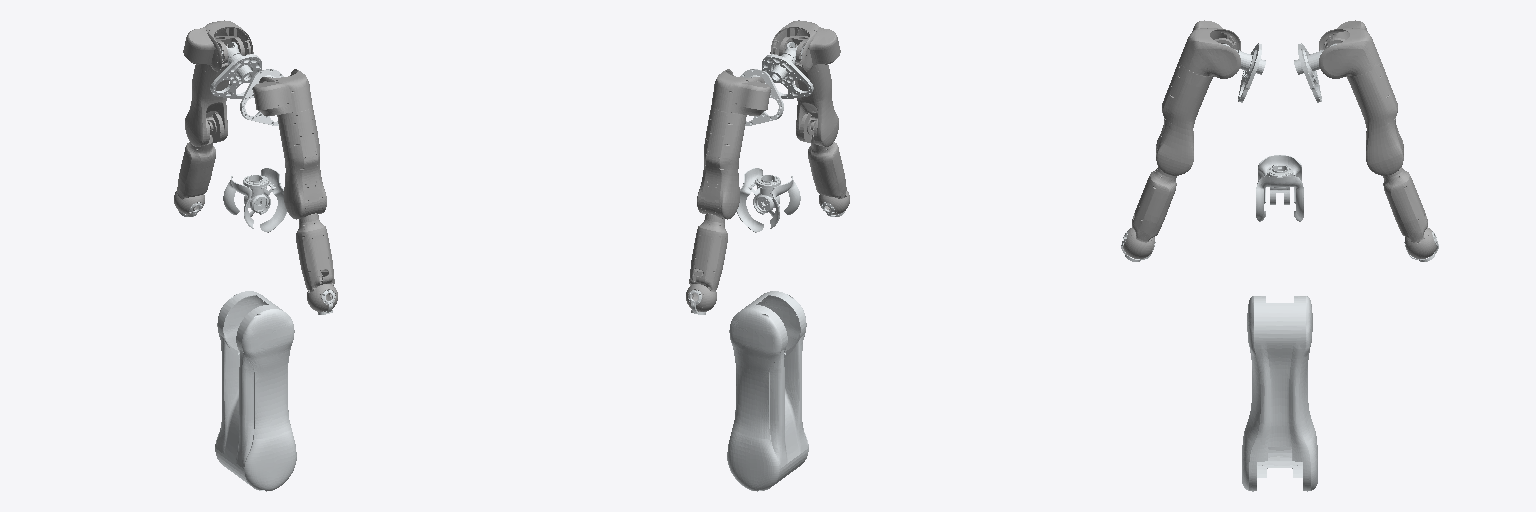
--- What the picture shows (computed from the rendered views, not written in the file) ---
Views: 3 orthographic renders of the robot side by side, from view 1: azimuth 30°, elevation 25°; view 2: azimuth 150°, elevation 25°; view 3: azimuth 270°, elevation 25°.
Model astribot_whole_body with 26 links and 25 joints (18 revolute, 7 fixed), rooted at astribot_torso_base, posed all joints at 0.
Links seen in each view (by area): view 1: astribot_torso_link_1, astribot_arm_right_link_3, astribot_arm_right_link_5, astribot_arm_left_link_3, astribot_torso_link_3, astribot_arm_left_link_2, astribot_arm_right_link_2, astribot_arm_left_link_5, astribot_arm_left_base_link, astribot_arm_right_base_link; view 2: astribot_torso_link_1, astribot_arm_left_link_3, astribot_arm_left_link_5, astribot_arm_right_link_3, astribot_torso_link_3, astribot_arm_right_link_2, astribot_arm_left_link_2, astribot_arm_right_link_5, astribot_arm_right_base_link, astribot_arm_left_base_link; view 3: astribot_torso_link_1, astribot_arm_left_link_3, astribot_arm_right_link_3, astribot_arm_left_link_2, astribot_arm_right_link_2, astribot_arm_left_link_5, astribot_arm_right_link_5, astribot_torso_link_3, astribot_arm_left_base_link, astribot_arm_right_base_link.
Link boxes in pixels (x1=…): astribot_torso_link_1: x1=215, y1=291, x2=296, y2=491; astribot_arm_right_link_3: x1=277, y1=107, x2=326, y2=219; astribot_arm_right_link_5: x1=296, y1=219, x2=337, y2=310; astribot_arm_left_link_3: x1=185, y1=64, x2=229, y2=146; astribot_torso_link_3: x1=223, y1=168, x2=286, y2=232; astribot_arm_left_link_2: x1=183, y1=20, x2=253, y2=71; astribot_arm_right_link_2: x1=253, y1=69, x2=312, y2=115; astribot_arm_left_link_5: x1=174, y1=142, x2=215, y2=213; astribot_arm_left_base_link: x1=210, y1=54, x2=261, y2=98; astribot_arm_right_base_link: x1=240, y1=69, x2=283, y2=125; astribot_torso_link_1: x1=727, y1=291, x2=808, y2=491; astribot_arm_left_link_3: x1=697, y1=107, x2=746, y2=219; astribot_arm_left_link_5: x1=686, y1=219, x2=727, y2=310; astribot_arm_right_link_3: x1=794, y1=64, x2=838, y2=146; astribot_torso_link_3: x1=737, y1=168, x2=800, y2=232; astribot_arm_right_link_2: x1=770, y1=20, x2=840, y2=71; astribot_arm_left_link_2: x1=711, y1=69, x2=770, y2=115; astribot_arm_right_link_5: x1=808, y1=142, x2=849, y2=213; astribot_arm_right_base_link: x1=762, y1=54, x2=813, y2=98; astribot_arm_left_base_link: x1=740, y1=69, x2=783, y2=125; astribot_torso_link_1: x1=1242, y1=296, x2=1317, y2=491; astribot_arm_left_link_3: x1=1346, y1=60, x2=1403, y2=175; astribot_arm_right_link_3: x1=1156, y1=60, x2=1213, y2=175; astribot_arm_left_link_2: x1=1319, y1=20, x2=1380, y2=78; astribot_arm_right_link_2: x1=1179, y1=20, x2=1240, y2=78; astribot_arm_left_link_5: x1=1383, y1=169, x2=1434, y2=258; astribot_arm_right_link_5: x1=1125, y1=169, x2=1176, y2=258; astribot_torso_link_3: x1=1256, y1=155, x2=1303, y2=221; astribot_arm_left_base_link: x1=1298, y1=43, x2=1321, y2=102; astribot_arm_right_base_link: x1=1238, y1=43, x2=1261, y2=102.
Bounding box of the posed robot: 0.1943 × 0.8328 × 1.31 m (x, y, z).
18 mesh visuals loaded from 15 distinct referenced files (12 binary STL); not drawn: 3 (reference not matched to a file when rendering).

URDF robot description (astribot_whole_body):
<?xml version="1.0" ?>
<!-- =================================================================================== -->
<!-- |    This document was autogenerated by xacro from astribot_s1_whole_body_without_wheel.xacro | -->
<!-- |    EDITING THIS FILE BY HAND IS NOT RECOMMENDED                                 | -->
<!-- =================================================================================== -->
<!-- run: xacro astribot_s1_whole_body.xacro -o astribot_s1_whole_body.urdf to generate the following .urdf file -->
<robot name="astribot_whole_body">
  <link name="astribot_torso_base">
    <inertial>
      <origin rpy="0 0 0" xyz="-0.062784 0.007017 0.035375"/>
      <mass value="39.24781"/>
      <inertia ixx="1.071997" ixy="0.015889" ixz="-0.058447" iyy="1.218431" iyz="-0.002015" izz="1.489411"/>
    </inertial>
    <visual>
      <origin rpy="0 0 0" xyz="0 0 0"/>
      <geometry>
        <mesh filename="s1_torso/astribot_torso_base_link.STL"/>
      </geometry>
      <material name="">
        <color rgba="0.79216 0.81961 0.93333 1"/>
      </material>
    </visual>
    <collision>
      <origin rpy="0 0 0" xyz="0 0 -0.05"/>
      <geometry>
        <cylinder length="0.1" radius="0.3"/>
      </geometry>
    </collision>
  </link>
  <link name="astribot_torso_link_1">
    <inertial>
      <origin rpy="0 0 0" xyz="-0.15249 0.00021066 -0.0033476"/>
      <mass value="7.3766"/>
      <inertia ixx="0.028834" ixy="-0.0052759" ixz="0.00010767" iyy="0.1483" iyz="1.1652E-05" izz="0.14268"/>
    </inertial>
    <visual>
      <origin rpy="0 0 0" xyz="0 0 0"/>
      <geometry>
        <mesh filename="s1_torso/astribot_torso_link_1.STL"/>
      </geometry>
      <material name="">
        <color rgba="0.89804 0.91765 0.92941 1"/>
      </material>
    </visual>
    <collision>
      <origin rpy="0 1.57 0" xyz="-0.15 0 0"/>
      <geometry>
        <cylinder length="0.3" radius="0.1"/>
      </geometry>
    </collision>
  </link>
  <joint name="astribot_torso_joint_1" type="revolute">
    <origin rpy="-1.5708 1.5708 0" xyz="0 0 0.12"/>
    <parent link="astribot_torso_base"/>
    <child link="astribot_torso_link_1"/>
    <axis xyz="0 0 1"/>
    <limit effort="100" lower="0.0" upper="1.4" velocity="6.0"/>
  </joint>
  <link name="astribot_torso_link_2">
    <inertial>
      <origin rpy="0 0 0" xyz="-0.22214 0.028873 0.00059024"/>
      <mass value="5.6183"/>
      <inertia ixx="0.0082545" ixy="0.0011523" ixz="0.00035614" iyy="0.012677" iyz="-5.8287E-05" izz="0.017512"/>
    </inertial>
    <visual>
      <origin rpy="0 0 0" xyz="0 0 0"/>
      <geometry>
        <mesh filename="s1_torso/astribot_torso_link_2.STL"/>
      </geometry>
      <material name="">
        <color rgba="0.89804 0.91765 0.92941 1"/>
      </material>
    </visual>
    <collision>
      <origin rpy="0 1.57 -0.25" xyz="-0.15 0.03 0"/>
      <geometry>
        <cylinder length="0.3" radius="0.1"/>
      </geometry>
    </collision>
  </link>
  <joint name="astribot_torso_joint_2" type="revolute">
    <origin rpy="0 0 0" xyz="-0.38 0 0"/>
    <parent link="astribot_torso_link_1"/>
    <child link="astribot_torso_link_2"/>
    <axis xyz="0 0 1"/>
    <limit effort="100" lower="-2.3" upper="0.0" velocity="6.0"/>
  </joint>
  <link name="astribot_torso_link_3">
    <inertial>
      <origin rpy="0 0 0" xyz="-0.017519 0.00059523 0.00025821"/>
      <mass value="0.49013"/>
      <inertia ixx="0.00022212" ixy="-2.6767E-07" ixz="4.3987E-07" iyy="0.00036522" iyz="3.8834E-07" izz="0.00038039"/>
    </inertial>
    <visual>
      <origin rpy="0 0 0" xyz="0 0 0"/>
      <geometry>
        <mesh filename="s1_torso/astribot_torso_link_3.STL"/>
      </geometry>
      <material name="">
        <color rgba="0.89804 0.91765 0.92941 1"/>
      </material>
    </visual>
    <collision>
      <origin rpy="0 1.57 0" xyz="-0.18 0.01 0"/>
      <geometry>
        <cylinder length="0.35" radius="0.09"/>
      </geometry>
    </collision>
  </link>
  <joint name="astribot_torso_joint_3" type="revolute">
    <origin rpy="0 0 0" xyz="-0.390 0 0"/>
    <parent link="astribot_torso_link_2"/>
    <child link="astribot_torso_link_3"/>
    <axis xyz="0 0 1"/>
    <limit effort="100" lower="0.0" upper="2.3" velocity="6.0"/>
  </joint>
  <link name="astribot_torso_link_4">
    <inertial>
      <origin rpy="0 0 0" xyz="0.00476227191516749 -4.56966810241128E-05 0.242912573510671"/>
      <mass value="3.55695635704638"/>
      <inertia ixx="0.0165768322563514" ixy="-9.94098112646385E-06" ixz="-0.000100011483384926" iyy="0.014904355097835" iyz="9.86752047032885E-07" izz="0.0110629318711333"/>
    </inertial>
    <visual>
      <origin rpy="0 0 0" xyz="0 0 0"/>
      <geometry>
        <mesh filename="s1_torso/astribot_torso_link_4.STL"/>
      </geometry>
      <material name="">
        <color rgba="0.898039215686275 0.917647058823529 0.929411764705882 1"/>
      </material>
    </visual>
  </link>
  <joint name="astribot_torso_joint_4" type="revolute">
    <origin rpy="1.5708 0 -1.5708" xyz="0 0 0"/>
    <parent link="astribot_torso_link_3"/>
    <child link="astribot_torso_link_4"/>
    <axis xyz="0 0 1"/>
    <limit effort="100" lower="-1.5" upper="1.5" velocity="6.0"/>
  </joint>
  <link name="astribot_torso_end_effector">
    <inertial>
      <origin rpy="0 0 0" xyz="0 0 0"/>
      <mass value="0"/>
      <inertia ixx="0" ixy="0" ixz="0" iyy="0" iyz="0" izz="0"/>
    </inertial>
  </link>
  <joint name="astribot_torso_end_effector_fixed_joint" type="fixed">
    <origin rpy="0.0 0.0 0.0" xyz="0 0 0.34475"/>
    <parent link="astribot_torso_link_4"/>
    <child link="astribot_torso_end_effector"/>
  </joint>
  <!-- <link name="astribot_head_base_link">
    <inertial>
      <origin rpy="0 0 0" xyz="-0.02816247 -0.00023176 -0.05211965"/>
      <mass value="0.39541440"/>
      <inertia ixx="0.00036025" ixy="-0.00003505" ixz="0.00004865" iyy="0.00049377" iyz="0.00000243" izz="0.00074441"/>
    </inertial>
    <visual>
      <origin rpy="0 0 0" xyz="0 0 0"/>
      <geometry>
        <mesh filename="s1_head/astribot_head_base_link.STL"/>
      </geometry>
      <material name="">
        <color rgba="0.807843137254902 0.843137254901961 0.905882352941176 1"/>
      </material>
    </visual>
  </link>
  <link name="astribot_head_link_1">
    <inertial>
      <origin rpy="0 0 0" xyz="0.00003191 -0.00038566 -0.02579910"/>
      <mass value="0.13910581"/>
      <inertia ixx="0.00004567" ixy="0.00000003" ixz="0.00000004" iyy="0.00004789" iyz="-0.00000091" izz="0.00003779"/>
    </inertial>
    <visual>
      <origin rpy="0 0 0" xyz="0 0 0"/>
      <geometry>
        <mesh filename="s1_head/astribot_head_link_1.STL"/>
      </geometry>
      <material name="">
        <color rgba="0.898039215686275 0.917647058823529 0.929411764705882 1"/>
      </material>
    </visual>
  </link>
  <joint name="astribot_head_joint_1" type="revolute">
    <origin rpy="0 0 0" xyz="0 0 0"/>
    <parent link="astribot_head_base_link"/>
    <child link="astribot_head_link_1"/>
    <axis xyz="0 0 1"/>
    <limit effort="100" lower="-1.57" upper="1.57" velocity="4.0"/>
  </joint>
  <link name="astribot_head_link_2">
    <inertial>
      <origin rpy="0 0 0" xyz="0.00705824 -0.14472601 -0.00061724"/>
      <mass value="0.97012447"/>
      <inertia ixx="0.00555660" ixy="-0.00041600" ixz="-0.00000036" iyy="0.00151908" iyz="-0.00012043" izz="0.00544493"/>
    </inertial>
    <visual>
      <origin rpy="0 0 0" xyz="0 0 0"/>
      <geometry>
        <mesh filename="s1_head/astribot_head_link_2.STL"/>
      </geometry>
      <material name="">
        <color rgba="0.807843137254902 0.843137254901961 0.905882352941176 1"/>
      </material>
    </visual>
    <collision>
      <origin rpy="0 0 0" xyz="0 -0.15 0"/>
      <geometry>
        <sphere radius="0.11"/>
      </geometry>
    </collision>
  </link>
  <joint name="astribot_head_joint_2" type="revolute">
    <origin rpy="-1.5708 0 0" xyz="0 0 0"/>
    <parent link="astribot_head_link_1"/>
    <child link="astribot_head_link_2"/>
    <axis xyz="0 0 1"/>
    <limit effort="100" lower="-1.22" upper="1.22" velocity="4.0"/>
  </joint> -->
  <link name="astribot_arm_left_base_link">
    <inertial>
      <origin rpy="0 0 0" xyz="-0.04309067 -0.01849796 -0.01384838"/>
      <mass value="2.22887320"/>
      <inertia ixx="0.00386389" ixy="-0.00050396" ixz="0.00025566" iyy="0.00306042" iyz="0.00019224" izz="0.00570294"/>
    </inertial>
    <visual>
      <origin rpy="0 0 0" xyz="0 0 0"/>
      <geometry>
        <mesh filename="s1_arm/astribot_arm_left_base_link.STL"/>
      </geometry>
      <material name="">
        <color rgba="0.898039215686275 0.917647058823529 0.929411764705882 1"/>
      </material>
    </visual>
  </link>
  <link name="astribot_arm_left_link_1">
    <inertial>
      <origin rpy="0 0 0" xyz="0.00012026 0.00047499 -0.05682561"/>
      <mass value="0.59936716"/>
      <inertia ixx="0.00064791" ixy="0.00000149" ixz="0.00000133" iyy="0.00065264" iyz="0.00000160" izz="0.00050137"/>
    </inertial>
    <visual>
      <origin rpy="0 0 0" xyz="0 0 0"/>
      <geometry>
        <mesh filename="s1_arm/astribot_arm_link_1.STL"/>
      </geometry>
      <material name="">
        <color rgba="0.898039215686275 0.917647058823529 0.929411764705882 1"/>
      </material>
    </visual>
  </link>
  <joint name="astribot_arm_left_joint_1" type="revolute">
    <origin rpy="0 0 0" xyz="0 0 0.091"/>
    <parent link="astribot_arm_left_base_link"/>
    <child link="astribot_arm_left_link_1"/>
    <axis xyz="0 0 1"/>
    <limit effort="265" lower="-3.0" upper="3.0" velocity="8.4"/>
  </joint>
  <link name="astribot_arm_left_link_2">
    <inertial>
      <origin rpy="0 0 0" xyz="-0.00396228 0.03490708 0.04270156"/>
      <mass value="1.43694657"/>
      <inertia ixx="0.00360751" ixy="-0.00009193" ixz="0.00007764" iyy="0.00283747" iyz="0.00054945" izz="0.00172927"/>
    </inertial>
    <visual>
      <origin rpy="0 0 0" xyz="0 0 0"/>
      <geometry>
        <mesh filename="s1_arm/astribot_arm_left_link_2.STL"/>
      </geometry>
      <material name="">
        <color rgba="0.698039215686274 0.698039215686274 0.698039215686274 1"/>
      </material>
    </visual>
  </link>
  <joint name="astribot_arm_left_joint_2" type="revolute">
    <origin rpy="1.5708 0 0" xyz="0 0 0"/>
    <parent link="astribot_arm_left_link_1"/>
    <child link="astribot_arm_left_link_2"/>
    <axis xyz="0 0 1"/>
    <limit effort="265" lower="-1.4" upper="0.4" velocity="8.4"/>
  </joint>
  <link name="astribot_arm_left_link_3">
    <inertial>
      <origin rpy="0 0 0" xyz="0.00531263 0.00020707 0.16136713"/>
      <mass value="2.0926399"/>
      <inertia ixx="0.01752179" ixy="2.336e-05" ixz="0.00144018" iyy="0.01784671" iyz="-3.027e-05" izz="0.0021843"/>
    </inertial>
    <visual>
      <origin rpy="0 0 0" xyz="0 0 0"/>
      <geometry>
        <mesh filename="s1_arm/astribot_arm_link_3.STL"/>
      </geometry>
      <material name="">
        <color rgba="0.698039215686274 0.698039215686274 0.698039215686274 1"/>
      </material>
    </visual>
    <collision>
      <origin rpy="0 0 0" xyz="0 0 0.15"/>
      <geometry>
        <cylinder length="0.18" radius="0.05"/>
      </geometry>
    </collision>
  </link>
  <joint name="astribot_arm_left_joint_3" type="revolute">
    <origin rpy="1.5708 0 -1.5708" xyz="0 0.05 0"/>
    <parent link="astribot_arm_left_link_2"/>
    <child link="astribot_arm_left_link_3"/>
    <axis xyz="0 0 1"/>
    <limit effort="132" lower="-3.0" upper="1.4" velocity="8.4"/>
  </joint>
  <link name="astribot_arm_left_link_4">
    <inertial>
      <origin rpy="0 0 0" xyz="0.00017294 -0.01269315 0.00196140"/>
      <mass value="0.36587933"/>
      <inertia ixx="0.00047693" ixy="0.00000635" ixz=" 0.00000135" iyy="0.00036801" iyz="0.00000705" izz="0.00050082"/>
    </inertial>
    <visual>
      <origin rpy="0 0 0" xyz="0 0 0"/>
      <geometry>
        <mesh filename="s1_arm/astribot_arm_link_4.STL"/>
      </geometry>
      <material name="">
        <color rgba="0.698039215686274 0.698039215686274 0.698039215686274 1"/>
      </material>
    </visual>
    <collision>
      <origin rpy="0 0 0" xyz="0 0 0"/>
      <geometry>
        <sphere radius="0.06"/>
      </geometry>
    </collision>
  </link>
  <joint name="astribot_arm_left_joint_4" type="revolute">
    <origin rpy="-1.5708 0 0" xyz="0.03 0 0.309"/>
    <parent link="astribot_arm_left_link_3"/>
    <child link="astribot_arm_left_link_4"/>
    <axis xyz="0 0 1"/>
    <limit effort="142" lower="0.0" upper="2.4" velocity="15"/>
  </joint>
  <link name="astribot_arm_left_link_5">
    <inertial>
      <origin rpy="0 0 0" xyz="-0.00032037 -0.00015185 0.15370447"/>
      <mass value="1.24085064"/>
      <inertia ixx="0.00454092" ixy="1.58e-06" ixz="-5.91e-06" iyy="0.00438922" iyz="-4.927e-05" izz="0.00079442"/>
    </inertial>
    <visual>
      <origin rpy="0 0 0" xyz="0 0 0"/>
      <geometry>
        <mesh filename="s1_arm/astribot_arm_link_5.STL"/>
      </geometry>
      <material name="">
        <color rgba="0.698039215686274 0.698039215686274 0.698039215686274 1"/>
      </material>
    </visual>
    <collision>
      <origin rpy="0 0 0" xyz="0 0 0.14"/>
      <geometry>
        <cylinder length="0.14" radius="0.05"/>
      </geometry>
    </collision>
  </link>
  <joint name="astribot_arm_left_joint_5" type="revolute">
    <origin rpy="1.5708 0 0" xyz="0 0 0"/>
    <parent link="astribot_arm_left_link_4"/>
    <child link="astribot_arm_left_link_5"/>
    <axis xyz="0 0 1"/>
    <limit effort="71" lower="-2.0" upper="2.0" velocity="15"/>
  </joint>
  <link name="astribot_arm_left_link_6">
    <inertial>
      <origin rpy="0 0 0" xyz="-0.00010311 0.00001218 0.00013181"/>
      <mass value="0.22465307"/>
      <inertia ixx="0.00016474" ixy="0.00000007" ixz="0.00000025" iyy="0.00015608" iyz="0.00000018" izz="0.00008555"/>
    </inertial>
    <visual>
      <origin rpy="0 0 0" xyz="0 0 0"/>
      <geometry>
        <mesh filename="s1_arm/astribot_arm_link_6.STL"/>
      </geometry>
      <material name="">
        <color rgba="0.698039215686274 0.698039215686274 0.698039215686274 1"/>
      </material>
    </visual>
  </link>
  <joint name="astribot_arm_left_joint_6" type="revolute">
    <origin rpy="-1.5708 0 0" xyz="0 0 0.277"/>
    <parent link="astribot_arm_left_link_5"/>
    <child link="astribot_arm_left_link_6"/>
    <axis xyz="0 0 1"/>
    <limit effort="20" lower="-0.6" upper="0.6" velocity="16.8"/>
  </joint>
  <link name="astribot_arm_left_link_7">
    <inertial>
      <origin rpy="0 0 0" xyz="4.333e-05 -0.00723447 -0.00362428"/>
      <mass value="0.12772019"/>
      <inertia ixx="0.00013672" ixy="1.6e-07" ixz="-2.4e-07" iyy="0.00010783" iyz="-3.35e-06" izz="5.858e-05"/>
    </inertial>
    <visual>
      <origin rpy="0 0 0" xyz="0 0 0"/>
      <geometry>
        <mesh filename="s1_arm/astribot_arm_link_7.STL"/>
      </geometry>
      <material name="">
        <color rgba="0.898039215686275 0.917647058823529 0.929411764705882 1"/>
      </material>
    </visual>
    <collision>
      <origin rpy="0 0 0" xyz="0.006 0 0"/>
      <geometry>
        <sphere radius="0.05"/>
      </geometry>
    </collision>
  </link>
  <joint name="astribot_arm_left_joint_7" type="revolute">
    <origin rpy="0 1.5708 0" xyz="0 0 0"/>
    <parent link="astribot_arm_left_link_6"/>
    <child link="astribot_arm_left_link_7"/>
    <axis xyz="0 0 1"/>
    <limit effort="20" lower="-1.4" upper="1.4" velocity="16.8"/>
  </joint>
  <link name="astribot_arm_left_tool_link">
    <inertial>
      <origin rpy="0 0 0" xyz=" -0.00019766 -0.10719761 0.00190898"/>
      <mass value="0.64762850"/>
      <inertia ixx="0.00152446" ixy="0.00000144" ixz="-0.00000058" iyy="0.00033076" iyz="0.00004144" izz="0.00156453"/>
    </inertial>
  </link>
  <joint name="astribot_arm_left_tool_joint" type="fixed">
    <origin rpy="0 0 0" xyz="0 0 0"/>
    <parent link="astribot_arm_left_link_7"/>
    <child link="astribot_arm_left_tool_link"/>
  </joint>
  <link name="astribot_arm_left_end_effector">
    <inertial>
      <origin rpy="0 0 0" xyz="0 0 0"/>
      <mass value="0"/>
      <inertia ixx="0" ixy="0" ixz="0" iyy="0" iyz="0" izz="0"/>
    </inertial>
  </link>
  <joint name="astribot_arm_left_ee_joint" type="fixed">
    <origin rpy="0 0 0" xyz="0 -0.15 0"/>
    <parent link="astribot_arm_left_tool_link"/>
    <child link="astribot_arm_left_end_effector"/>
  </joint>
  <link name="astribot_arm_right_base_link">
    <inertial>
      <origin rpy="0 0 0" xyz="-0.04450932 0.01988693 0.00162589"/>
      <mass value="2.22887320"/>
      <inertia ixx="0.00396811" ixy="0.00041290" ixz="-0.00033387" iyy="0.00304615" iyz="-0.00021572" izz="0.00574641"/>
    </inertial>
    <visual>
      <origin rpy="0 0 0" xyz="0 0 0"/>
      <geometry>
        <mesh filename="s1_arm/astribot_arm_right_base_link.STL"/>
      </geometry>
      <material name="">
        <color rgba="0.898039215686275 0.917647058823529 0.929411764705882 1"/>
      </material>
    </visual>
  </link>
  <link name="astribot_arm_right_link_1">
    <inertial>
      <origin rpy="0 0 0" xyz="0.00012026 0.00047499 -0.05682561"/>
      <mass value="0.59936716"/>
      <inertia ixx="0.00064791" ixy="0.00000149" ixz="0.00000133" iyy="0.00065264" iyz="0.00000160" izz="0.00050137"/>
    </inertial>
    <visual>
      <origin rpy="0 0 0" xyz="0 0 0"/>
      <geometry>
        <mesh filename="s1_arm/astribot_arm_link_1.STL"/>
      </geometry>
      <material name="">
        <color rgba="0.898039215686275 0.917647058823529 0.929411764705882 1"/>
      </material>
    </visual>
  </link>
  <joint name="astribot_arm_right_joint_1" type="revolute">
    <origin rpy="0 0 0" xyz="0 0 0.091"/>
    <parent link="astribot_arm_right_base_link"/>
    <child link="astribot_arm_right_link_1"/>
    <axis xyz="0 0 1"/>
    <limit effort="265" lower="-3.0" upper="3.0" velocity="8.4"/>
  </joint>
  <link name="astribot_arm_right_link_2">
    <inertial>
      <origin rpy="0 0 0" xyz="-0.00384709 0.03502105 -0.04050705"/>
      <mass value="1.45811037"/>
      <inertia ixx="0.00394196" ixy="-8.846e-05" ixz="-3.742e-05" iyy="0.00316298" iyz="-0.0007079" izz="0.00177295"/>
    </inertial>
    <visual>
      <origin rpy="0 0 0" xyz="0 0 0"/>
      <geometry>
        <mesh filename="s1_arm/astribot_arm_right_link_2.STL"/>
      </geometry>
      <material name="">
        <color rgba="0.698039215686274 0.698039215686274 0.698039215686274 1"/>
      </material>
    </visual>
  </link>
  <joint name="astribot_arm_right_joint_2" type="revolute">
    <origin rpy="1.5708 0 0" xyz="0 0 0"/>
    <parent link="astribot_arm_right_link_1"/>
    <child link="astribot_arm_right_link_2"/>
    <axis xyz="0 0 1"/>
    <limit effort="265" lower="-1.4" upper="0.4" velocity="8.4"/>
  </joint>
  <link name="astribot_arm_right_link_3">
    <inertial>
      <origin rpy="0 0 0" xyz="0.00531263 0.00020707 0.16136713"/>
      <mass value="2.0926399"/>
      <inertia ixx="0.01752179" ixy="2.336e-05" ixz="0.00144018" iyy="0.01784671" iyz="-3.027e-05" izz="0.0021843"/>
    </inertial>
    <visual>
      <origin rpy="0 0 0" xyz="0 0 0"/>
      <geometry>
        <mesh filename="s1_arm/astribot_arm_link_3.STL"/>
      </geometry>
      <material name="">
        <color rgba="0.698039215686274 0.698039215686274 0.698039215686274 1"/>
      </material>
    </visual>
    <collision>
      <origin rpy="0 0 0" xyz="0 0 0.15"/>
      <geometry>
        <cylinder length="0.18" radius="0.05"/>
      </geometry>
    </collision>
  </link>
  <joint name="astribot_arm_right_joint_3" type="revolute">
    <origin rpy="1.5708 0 -1.5708" xyz="0 0.05 0"/>
    <parent link="astribot_arm_right_link_2"/>
    <child link="astribot_arm_right_link_3"/>
    <axis xyz="0 0 1"/>
    <limit effort="132" lower="-1.4" upper="3.0" velocity="8.4"/>
  </joint>
  <link name="astribot_arm_right_link_4">
    <inertial>
      <origin rpy="0 0 0" xyz="0.00017294 -0.01269315 0.00196140"/>
      <mass value="0.36587933"/>
      <inertia ixx="0.00047693" ixy="0.00000635" ixz=" 0.00000135" iyy="0.00036801" iyz="0.00000705" izz="0.00050082"/>
    </inertial>
    <visual>
      <origin rpy="0 0 0" xyz="0 0 0"/>
      <geometry>
        <mesh filename="s1_arm/astribot_arm_link_4.STL"/>
      </geometry>
      <material name="">
        <color rgba="0.698039215686274 0.698039215686274 0.698039215686274 1"/>
      </material>
    </visual>
    <collision>
      <origin rpy="0 0 0" xyz="0 0 0"/>
      <geometry>
        <sphere radius="0.06"/>
      </geometry>
    </collision>
  </link>
  <joint name="astribot_arm_right_joint_4" type="revolute">
    <origin rpy="-1.5708 0 0" xyz="0.03 0 0.309"/>
    <parent link="astribot_arm_right_link_3"/>
    <child link="astribot_arm_right_link_4"/>
    <axis xyz="0 0 1"/>
    <limit effort="142" lower="0.0" upper="2.4" velocity="15"/>
  </joint>
  <link name="astribot_arm_right_link_5">
    <inertial>
      <origin rpy="0 0 0" xyz="-0.00032037 -0.00015185 0.15370447"/>
      <mass value="1.24085064"/>
      <inertia ixx="0.00454092" ixy="1.58e-06" ixz="-5.91e-06" iyy="0.00438922" iyz="-4.927e-05" izz="0.00079442"/>
    </inertial>
    <visual>
      <origin rpy="0 0 0" xyz="0 0 0"/>
      <geometry>
        <mesh filename="s1_arm/astribot_arm_link_5.STL"/>
      </geometry>
      <material name="">
        <color rgba="0.698039215686274 0.698039215686274 0.698039215686274 1"/>
      </material>
    </visual>
    <collision>
      <origin rpy="0 0 0" xyz="0 0 0.14"/>
      <geometry>
        <cylinder length="0.14" radius="0.05"/>
      </geometry>
    </collision>
  </link>
  <joint name="astribot_arm_right_joint_5" type="revolute">
    <origin rpy="1.5708 0 0" xyz="0 0 0"/>
    <parent link="astribot_arm_right_link_4"/>
    <child link="astribot_arm_right_link_5"/>
    <axis xyz="0 0 1"/>
    <limit effort="71" lower="-2.0" upper="2.0" velocity="15"/>
  </joint>
  <link name="astribot_arm_right_link_6">
    <inertial>
      <origin rpy="0 0 0" xyz="-0.00010311 0.00001218 0.00013181"/>
      <mass value="0.22465307"/>
      <inertia ixx="0.00016474" ixy="0.00000007" ixz="0.00000025" iyy="0.00015608" iyz="0.00000018" izz="0.00008555"/>
    </inertial>
    <visual>
      <origin rpy="0 0 0" xyz="0 0 0"/>
      <geometry>
        <mesh filename="s1_arm/astribot_arm_link_6.STL"/>
      </geometry>
      <material name="">
        <color rgba="0.698039215686274 0.698039215686274 0.698039215686274 1"/>
      </material>
    </visual>
  </link>
  <joint name="astribot_arm_right_joint_6" type="revolute">
    <origin rpy="-1.5708 0 0" xyz="0 0 0.277"/>
    <parent link="astribot_arm_right_link_5"/>
    <child link="astribot_arm_right_link_6"/>
    <axis xyz="0 0 1"/>
    <limit effort="20" lower="-0.6" upper="0.6" velocity="16.8"/>
  </joint>
  <link name="astribot_arm_right_link_7">
    <inertial>
      <origin rpy="0 0 0" xyz="4.333e-05 -0.00723447 -0.00362428"/>
      <mass value="0.12772019"/>
      <inertia ixx="0.00013672" ixy="1.6e-07" ixz="-2.4e-07" iyy="0.00010783" iyz="-3.35e-06" izz="5.858e-05"/>
    </inertial>
    <visual>
      <origin rpy="0 0 0" xyz="0 0 0"/>
      <geometry>
        <mesh filename="s1_arm/astribot_arm_link_7.STL"/>
      </geometry>
      <material name="">
        <color rgba="0.898039215686275 0.917647058823529 0.929411764705882 1"/>
      </material>
    </visual>
    <collision>
      <origin rpy="0 0 0" xyz="0.006 0 0"/>
      <geometry>
        <sphere radius="0.05"/>
      </geometry>
    </collision>
  </link>
  <joint name="astribot_arm_right_joint_7" type="revolute">
    <origin rpy="0 1.5708 0" xyz="0 0 0"/>
    <parent link="astribot_arm_right_link_6"/>
    <child link="astribot_arm_right_link_7"/>
    <axis xyz="0 0 1"/>
    <limit effort="20" lower="-1.4" upper="1.4" velocity="16.8"/>
  </joint>
  <link name="astribot_arm_right_tool_link">
    <inertial>
      <origin rpy="0 0 0" xyz=" -0.00019766 -0.10719761 0.00190898"/>
      <mass value="0.64762850"/>
      <inertia ixx="0.00152446" ixy="0.00000144" ixz="-0.00000058" iyy="0.00033076" iyz="0.00004144" izz="0.00156453"/>
    </inertial>
  </link>
  <joint name="astribot_arm_right_tool_joint" type="fixed">
    <origin rpy="0 0 0" xyz="0 0 0"/>
    <parent link="astribot_arm_right_link_7"/>
    <child link="astribot_arm_right_tool_link"/>
  </joint>
  <link name="astribot_arm_right_end_effector">
    <inertial>
      <origin rpy="0 0 0" xyz="0 0 0"/>
      <mass value="0"/>
      <inertia ixx="0" ixy="0" ixz="0" iyy="0" iyz="0" izz="0"/>
    </inertial>
  </link>
  <joint name="astribot_arm_right_ee_joint" type="fixed">
    <origin rpy="0 0 0" xyz="0 -0.15 0"/>
    <parent link="astribot_arm_right_tool_link"/>
    <child link="astribot_arm_right_end_effector"/>
  </joint>
  <!-- <joint name="astribot_head_fixed_joint" type="fixed">
    <parent link="astribot_torso_end_effector"/>
    <child link="astribot_head_base_link"/>
    <origin rpy="0 0 0" xyz="0 0 0.1229"/>
  </joint> -->
  <joint name="astribot_arm_left_base_fixed_joint" type="fixed">
    <parent link="astribot_torso_end_effector"/>
    <child link="astribot_arm_left_base_link"/>
    <origin rpy="0 -1.22173 -1.5707963" xyz="0 0.06449 0.02348"/>
  </joint>
  <joint name="astribot_arm_right_base_fixed_joint" type="fixed">
    <parent link="astribot_torso_end_effector"/>
    <child link="astribot_arm_right_base_link"/>
    <origin rpy="0 -1.22173 1.5707963" xyz="0 -0.06449 0.02348"/>
  </joint>
</robot>
